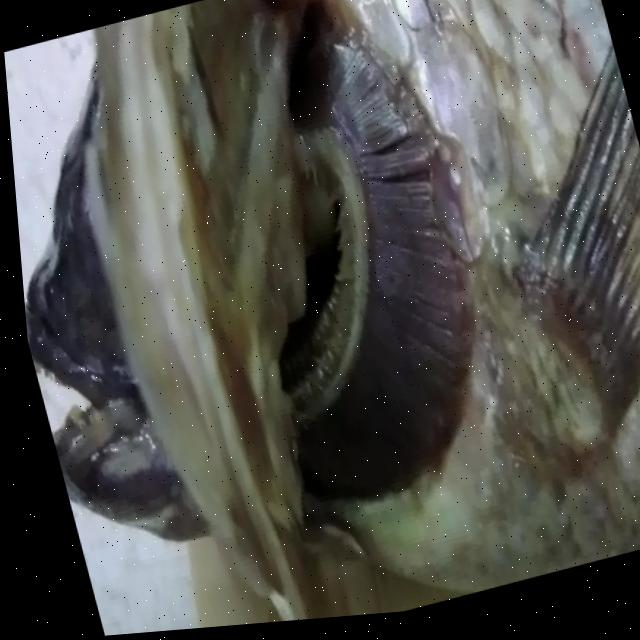Non-Fresh: (190, 0, 532, 534)
